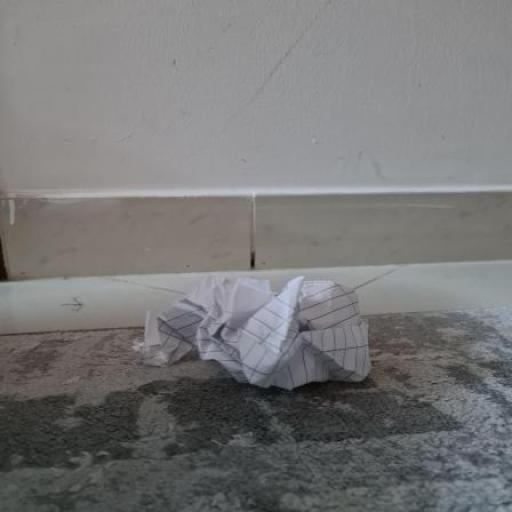paper: (128, 274, 373, 386)
